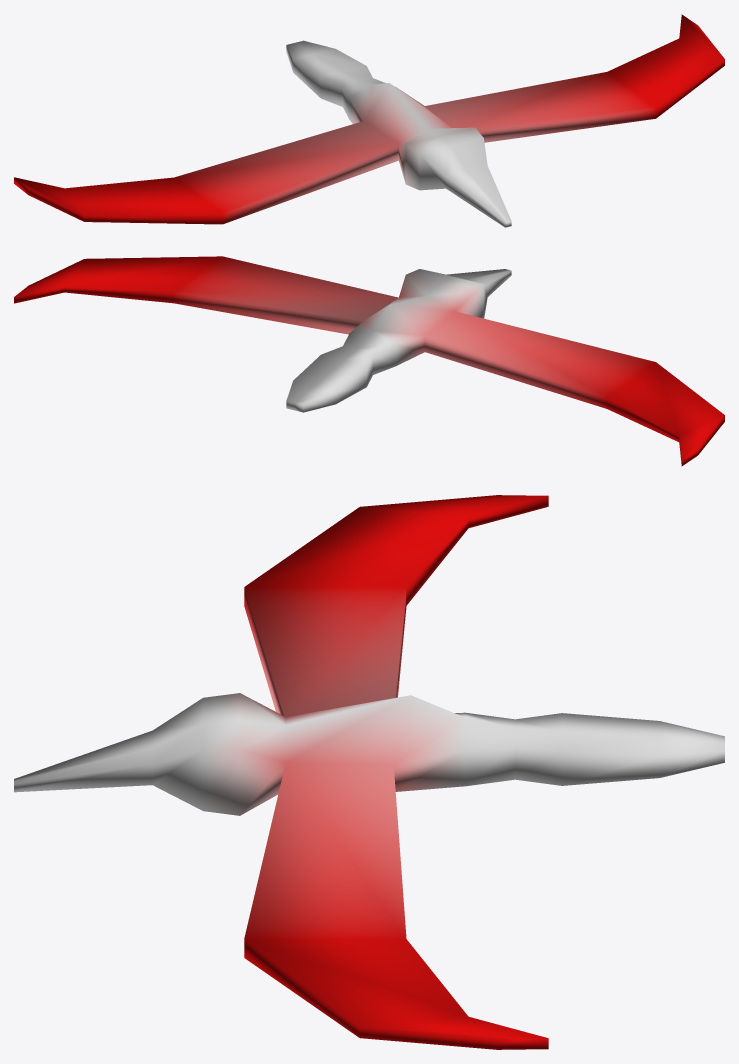
Rendered from zoizos.fbx.
The picture shows the model from 3 angles, top to bottom: view 1: azimuth 30°, elevation 25°; view 2: azimuth 150°, elevation 25°; view 3: azimuth 270°, elevation 25°; orthographic projection. The views are drawn at different scales.
Parts seen in each view (by area): view 1: Cube; view 2: Cube; view 3: Cube.
Boxes of the visible parts, bbox=[...] form: Cube: bbox=[14, 14, 724, 227]; Cube: bbox=[14, 256, 724, 466]; Cube: bbox=[14, 495, 724, 1049].
Size of the model in its own units: 7.03 by 0.5693 by 3.88.
